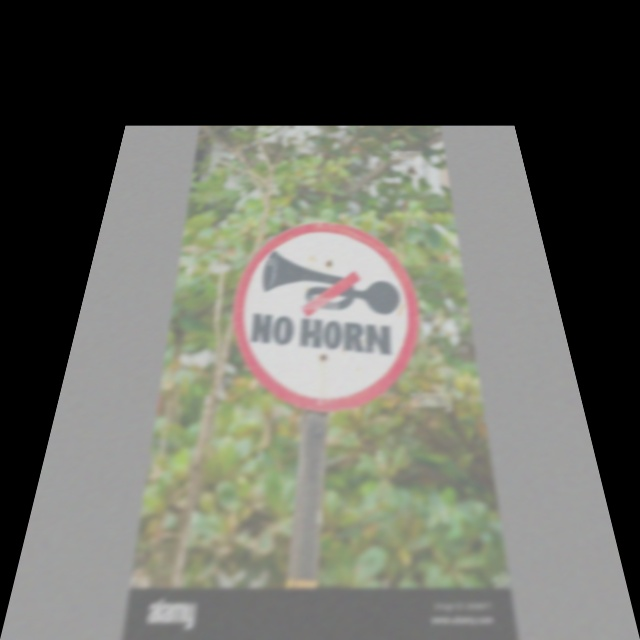Horn_Prohibited: (228, 219, 426, 414)
